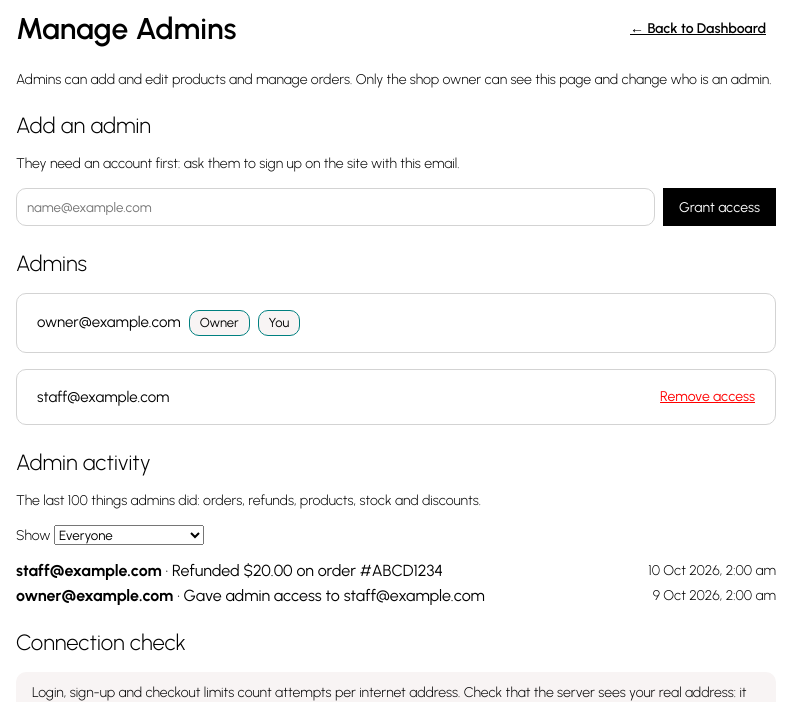
Test: AdminUsers › shows the admin activity, filtered by admin
Expected: the number of elements with test id "activity" is 2, [16,561,776,580]; [16,586,776,605]
Expected: the text "staff@example.com · Refunded $20.00 on order #ABCD1234" is shown, [16,561,443,580]
Select "staff@example.com" in the dropdown named "Show activity by" at (129, 535), box [54,525,204,545]
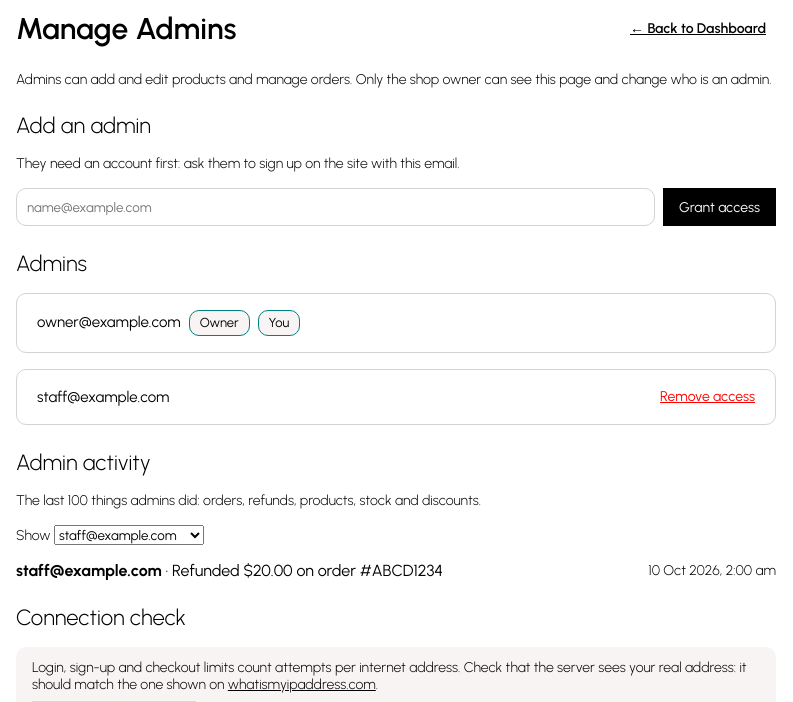
Now the number of elements with test id "activity" is 1, box [16,561,776,580]
